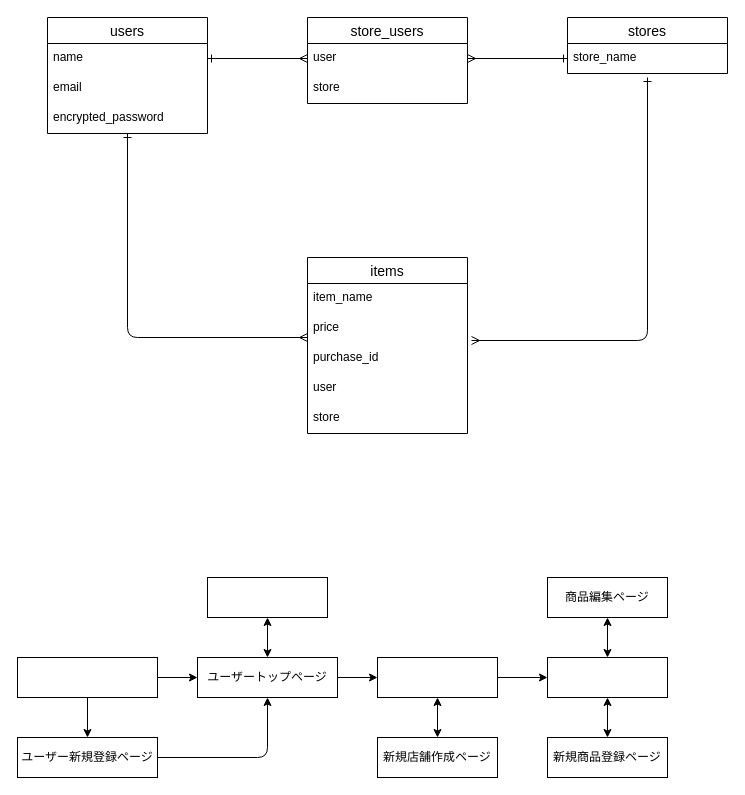
Image size: 745x795. Some labels were removed from this diagram. Here are the shapes that lost their labels. From the top down, the centre of each, then its label:
the point at 267,597: ユーザー編集ページ
the point at 87,677: ユーザーログインページ
the point at 437,677: 店舗一覧ページ
the point at 607,677: 商品一覧ページ
